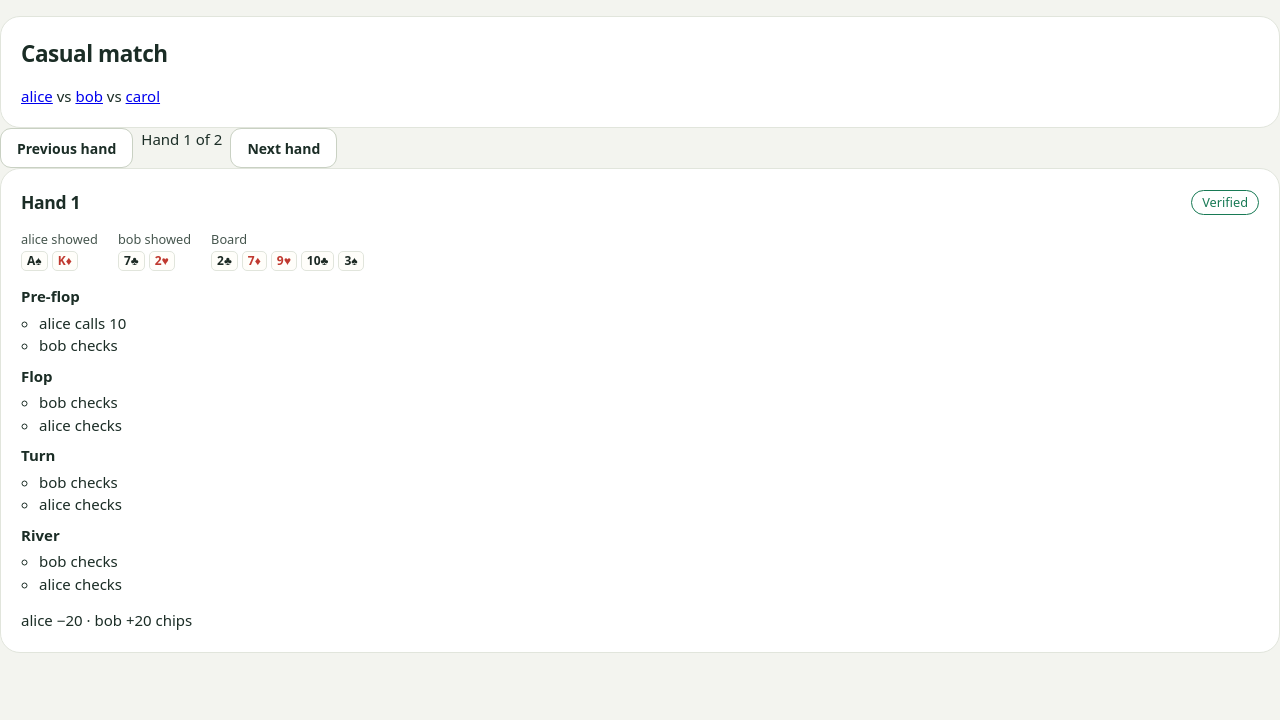
the public review of a six-casual session › a player who sits down after hand 1 is named from their first hand
Click the button "Next hand" at point(284, 148), box [230,128,337,168]
(page scrolled)
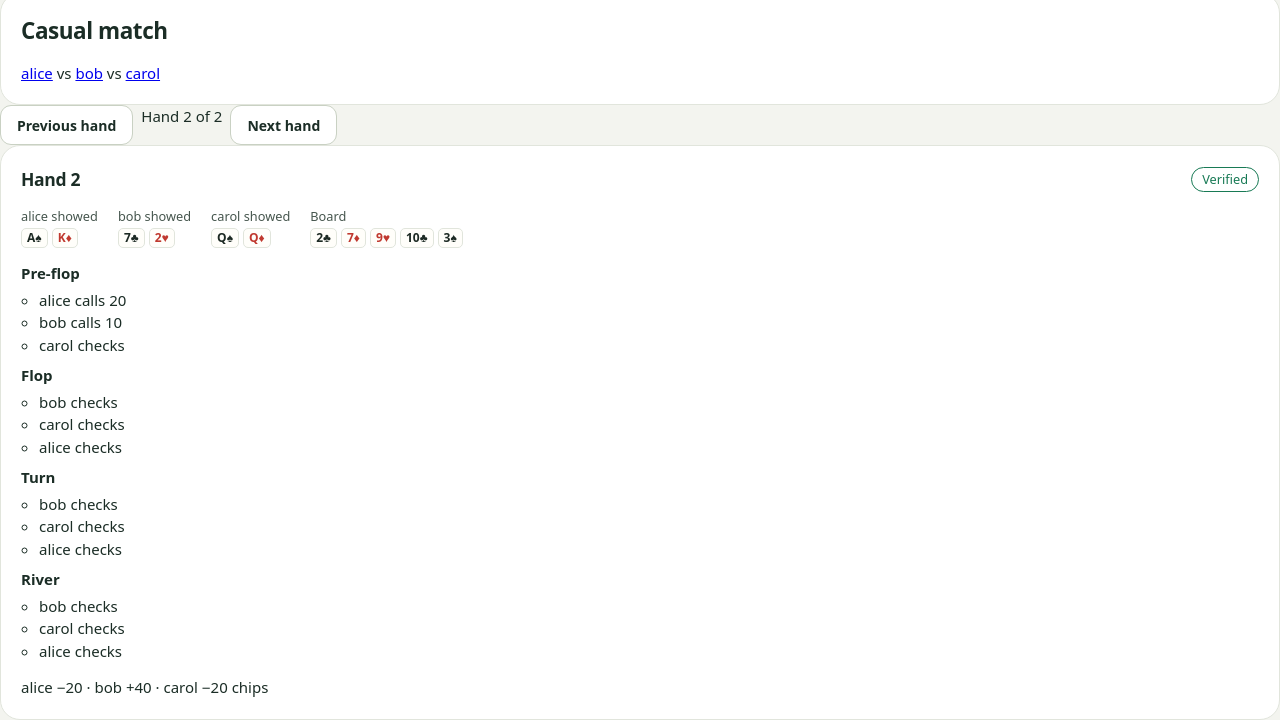
Expected: the text "carol showed" is shown, [211,207,290,226]
Expected: the element "Hand 2" shows "carol checks"
Expected: the element "Hand 2" shows "alice −20 · bob +40 · carol −20 chips"
